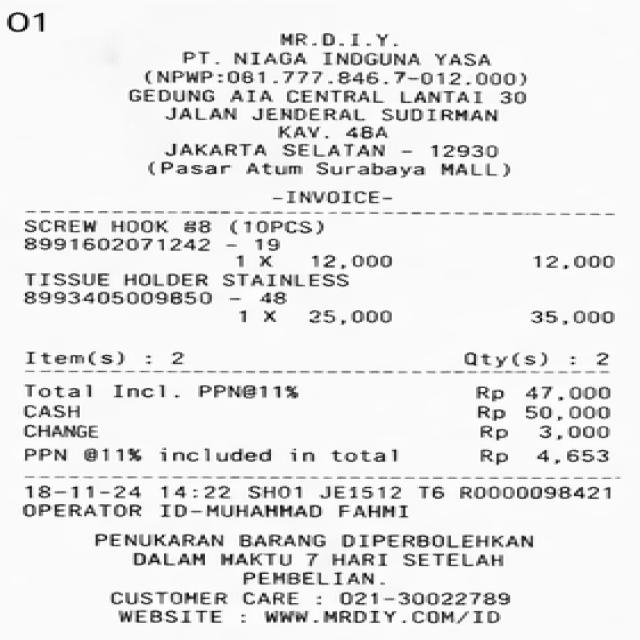date: (23, 484, 238, 499)
store: (273, 29, 407, 50)
total: (15, 382, 628, 402)
